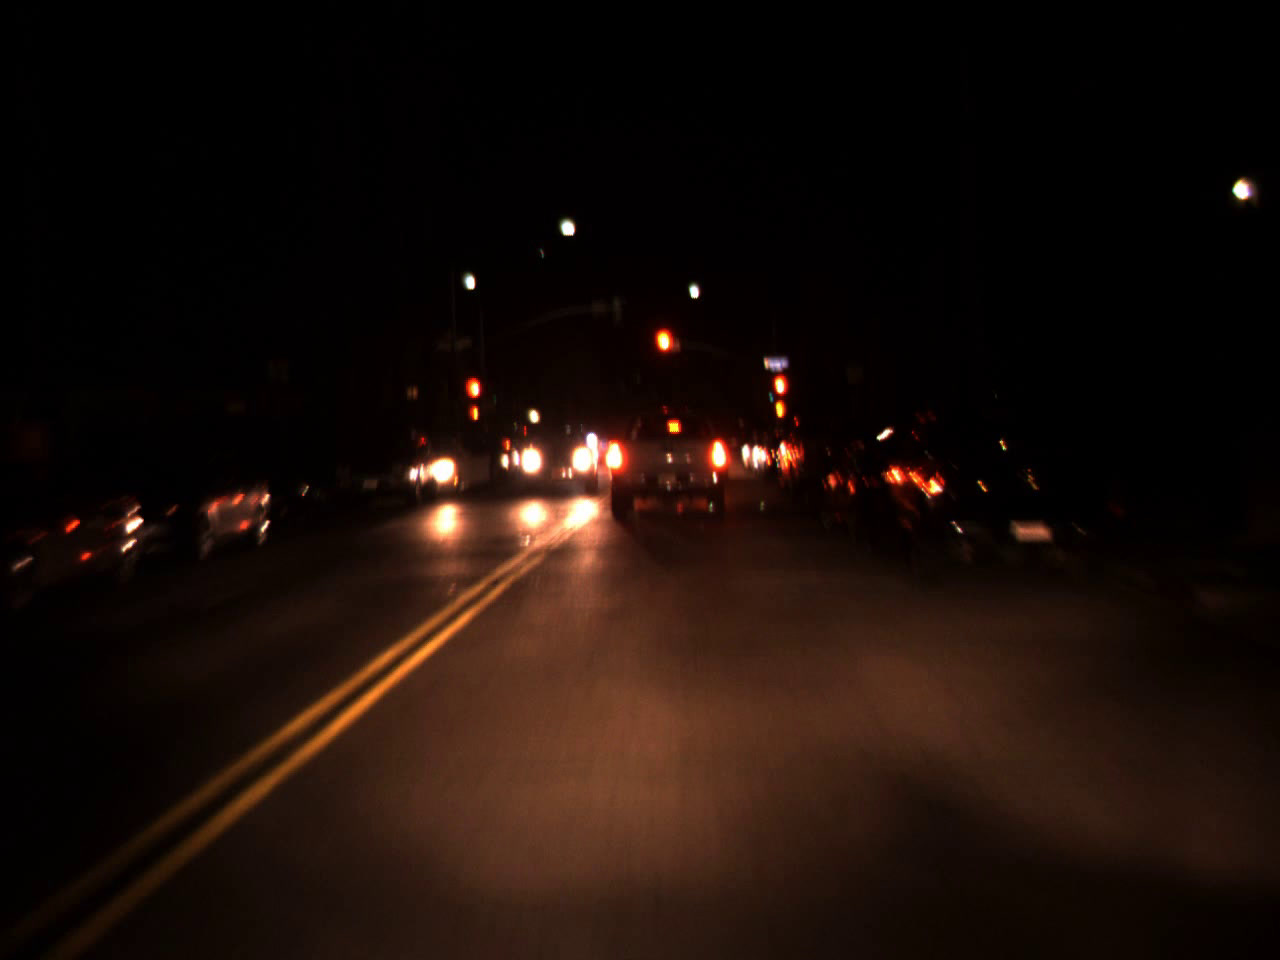stop: (651, 324, 676, 380), (462, 373, 483, 427), (772, 371, 790, 419)
